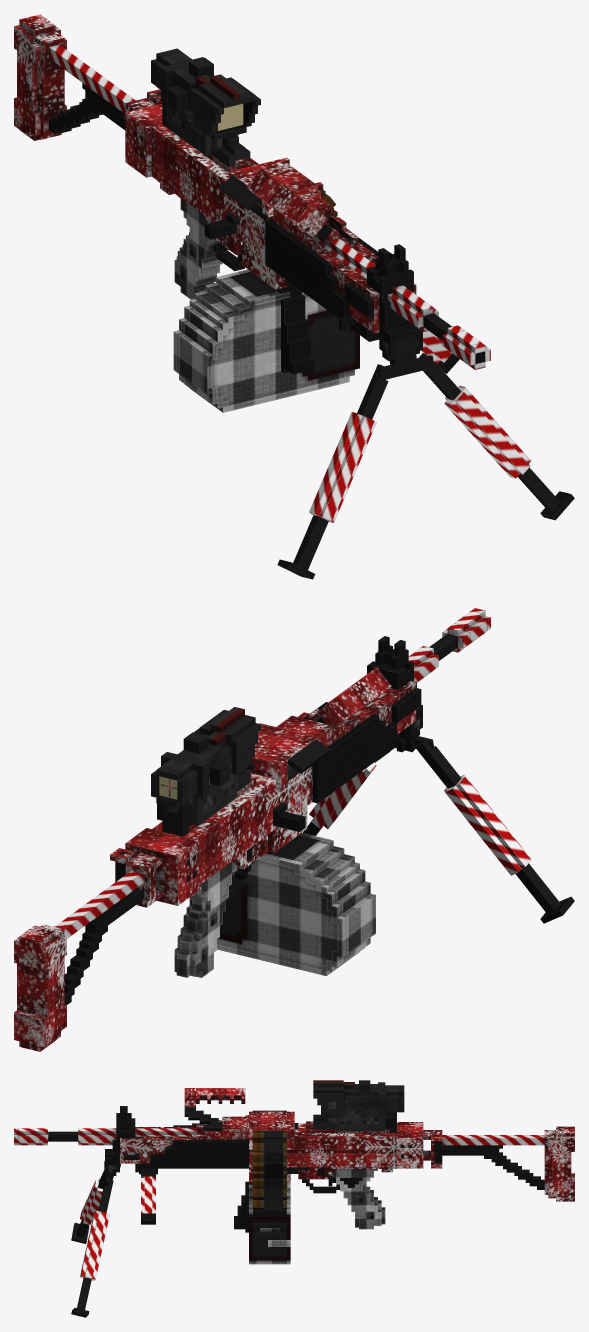
The model's file is RD_NEGEV_NY22.glb.
The picture shows the model from 3 angles, top to bottom: view 1: azimuth 30°, elevation 25°; view 2: azimuth 150°, elevation 25°; view 3: azimuth 270°, elevation 25°; orthographic projection. The views are drawn at different scales.
Visible parts, largest first — view 1: NEGEV, NEGEV_CLIP2, SCOPE_ACOG, NEGEV_DIPOD_LEG1, NEGEV_DIPOD_LEG2, NEGEV_CLIP, NEGEV_COVER, NEGEV_DIPOD, SCOPE_EOTECH, NEGEV_GRIP; view 2: NEGEV, NEGEV_CLIP2, SCOPE_ACOG, NEGEV_DIPOD_LEG1, NEGEV_COVER, NEGEV_DIPOD_LEG2, NEGEV_SCOPE, SCOPE_EOTECH, NEGEV_BOLT; view 3: NEGEV, SCOPE_ACOG, NEGEV_CLIP2, NEGEV_DIPOD_LEG2, NEGEV_COVER, NEGEV_DIPOD_LEG1, NEGEV_GRIP, SCOPE_HOLOSUN, SCOPE_EOTECH, NEGEV_CLIP, NEGEV_BULLET07, NEGEV_BULLET08 (+5 smaller).
Boxes of the visible parts, bbox=[...] form: NEGEV: bbox=[14, 14, 490, 369]; NEGEV_CLIP2: bbox=[173, 269, 359, 412]; SCOPE_ACOG: bbox=[151, 48, 260, 167]; NEGEV_DIPOD_LEG1: bbox=[277, 364, 388, 579]; NEGEV_DIPOD_LEG2: bbox=[419, 353, 574, 520]; NEGEV_CLIP: bbox=[278, 281, 314, 374]; NEGEV_COVER: bbox=[219, 159, 320, 217]; NEGEV_DIPOD: bbox=[377, 336, 434, 379]; SCOPE_EOTECH: bbox=[166, 104, 238, 152]; NEGEV_GRIP: bbox=[421, 331, 459, 373]; NEGEV: bbox=[14, 608, 490, 1051]; NEGEV_CLIP2: bbox=[217, 833, 375, 975]; SCOPE_ACOG: bbox=[151, 707, 260, 807]; NEGEV_DIPOD_LEG1: bbox=[415, 740, 574, 923]; NEGEV_COVER: bbox=[245, 724, 330, 791]; NEGEV_DIPOD_LEG2: bbox=[303, 763, 376, 835]; NEGEV_SCOPE: bbox=[157, 799, 192, 836]; SCOPE_EOTECH: bbox=[189, 774, 238, 825]; NEGEV_BOLT: bbox=[273, 802, 305, 831]; NEGEV: bbox=[14, 1088, 574, 1229]; SCOPE_ACOG: bbox=[313, 1080, 404, 1129]; NEGEV_CLIP2: bbox=[249, 1182, 290, 1264]; NEGEV_DIPOD_LEG2: bbox=[71, 1179, 113, 1317]; NEGEV_COVER: bbox=[245, 1110, 298, 1137]; NEGEV_DIPOD_LEG1: bbox=[71, 1169, 104, 1243]; NEGEV_GRIP: bbox=[141, 1169, 155, 1224]; SCOPE_HOLOSUN: bbox=[336, 1100, 366, 1131]; SCOPE_EOTECH: bbox=[328, 1110, 385, 1131]; NEGEV_CLIP: bbox=[234, 1181, 252, 1232]; NEGEV_BULLET07: bbox=[252, 1151, 286, 1162]; NEGEV_BULLET08: bbox=[252, 1139, 286, 1151].
Bounding box in the file's own units: 0.5335 × 0.5705 × 1.46.
Materials: 7 (7 with a texture image).
